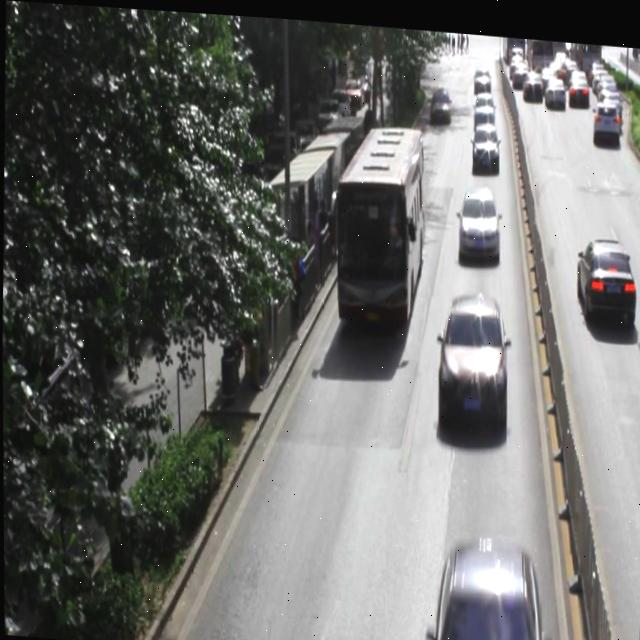car: (429, 526, 539, 640), (434, 287, 507, 422), (574, 229, 634, 317), (455, 181, 499, 254), (470, 118, 498, 162)
van: (332, 119, 424, 323)
